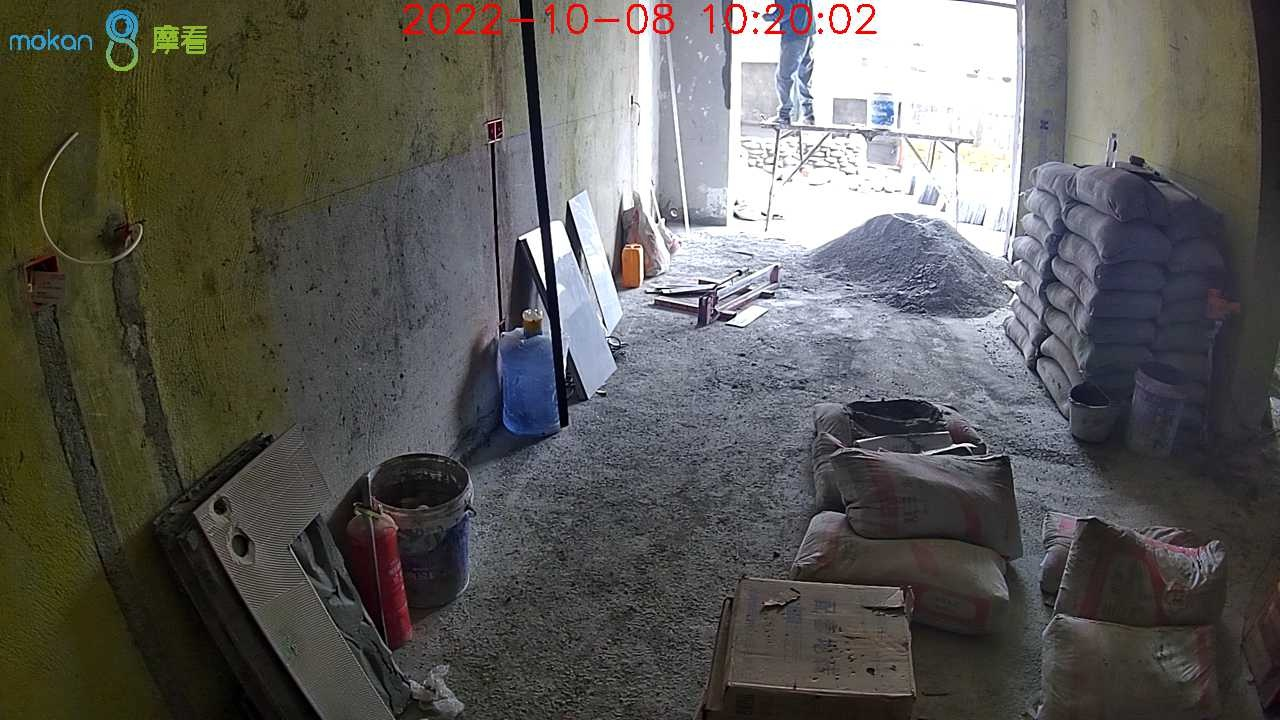people: (768, 3, 822, 126)
window: (736, 4, 1014, 240)
